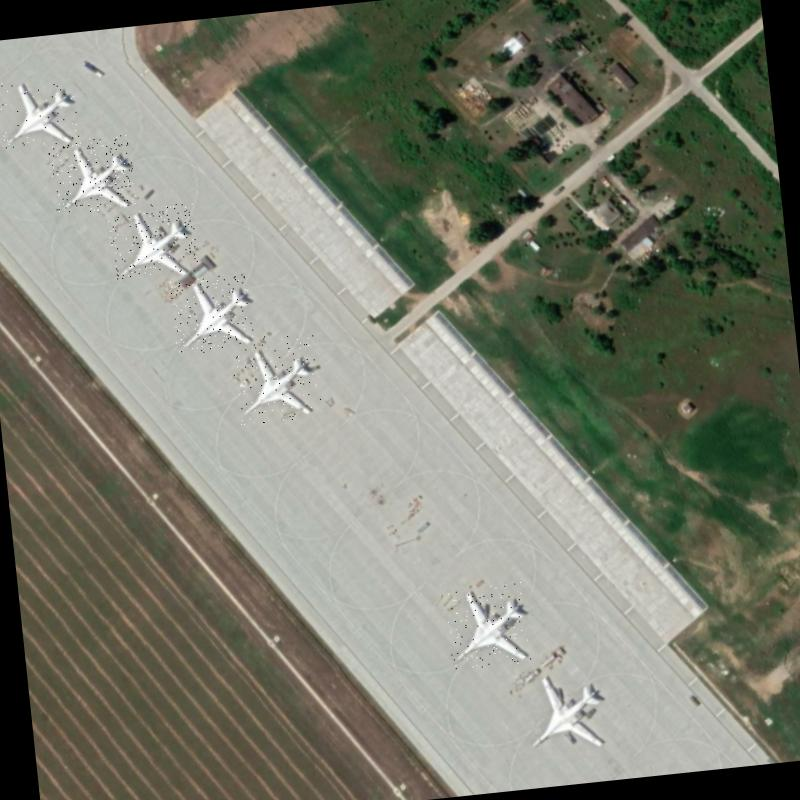A6: (516, 660, 611, 758), (230, 331, 322, 425), (444, 581, 531, 670), (106, 200, 200, 280), (47, 134, 136, 215), (169, 272, 255, 355), (0, 73, 79, 150)
